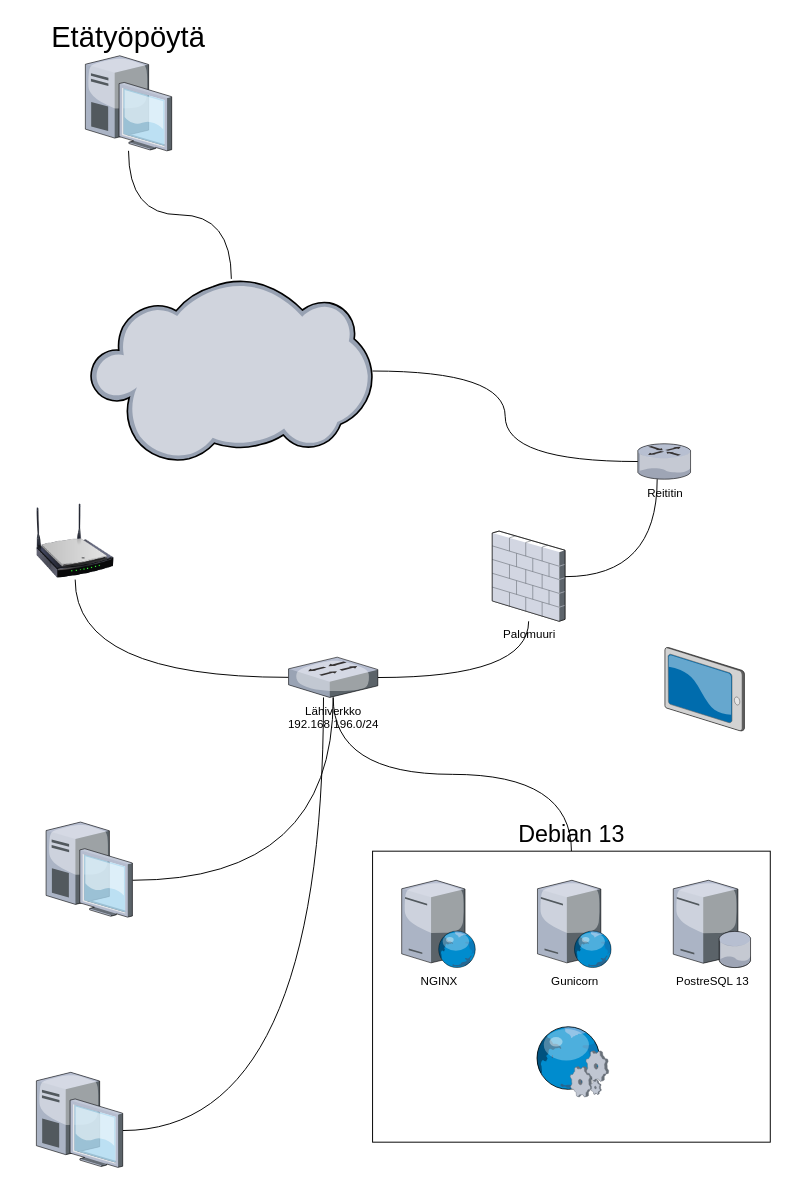
Image size: 788x1183. Some labels were removed from this diagram. The centre of each missing label's shape, as x and y in pixels:
Django: the point at 571,1060
Internet: the point at 231,370
Langattoman verkon tukiasema: the point at 74,540
